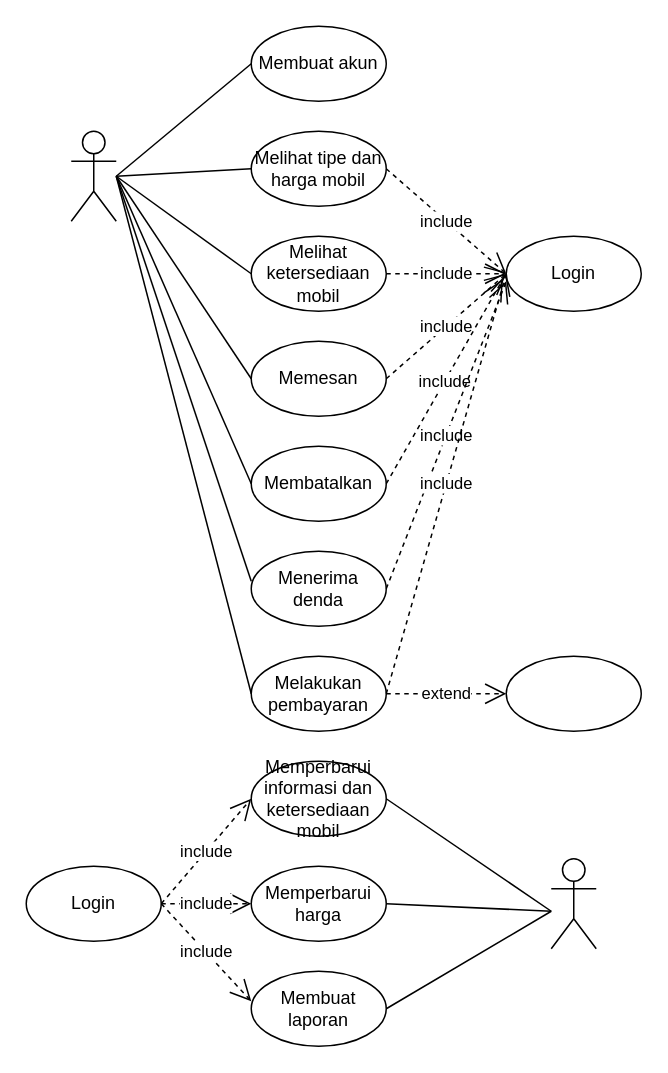
The diagram is 668 pixels wide and 1073 high, and some of its shapes have lost their labels. The centre of each missing label's shape, as x and y in pixels:
Admin: pixel 573 903
Menerima invoice pembayaran: pixel 573 693
Pelanggan: pixel 93 175
